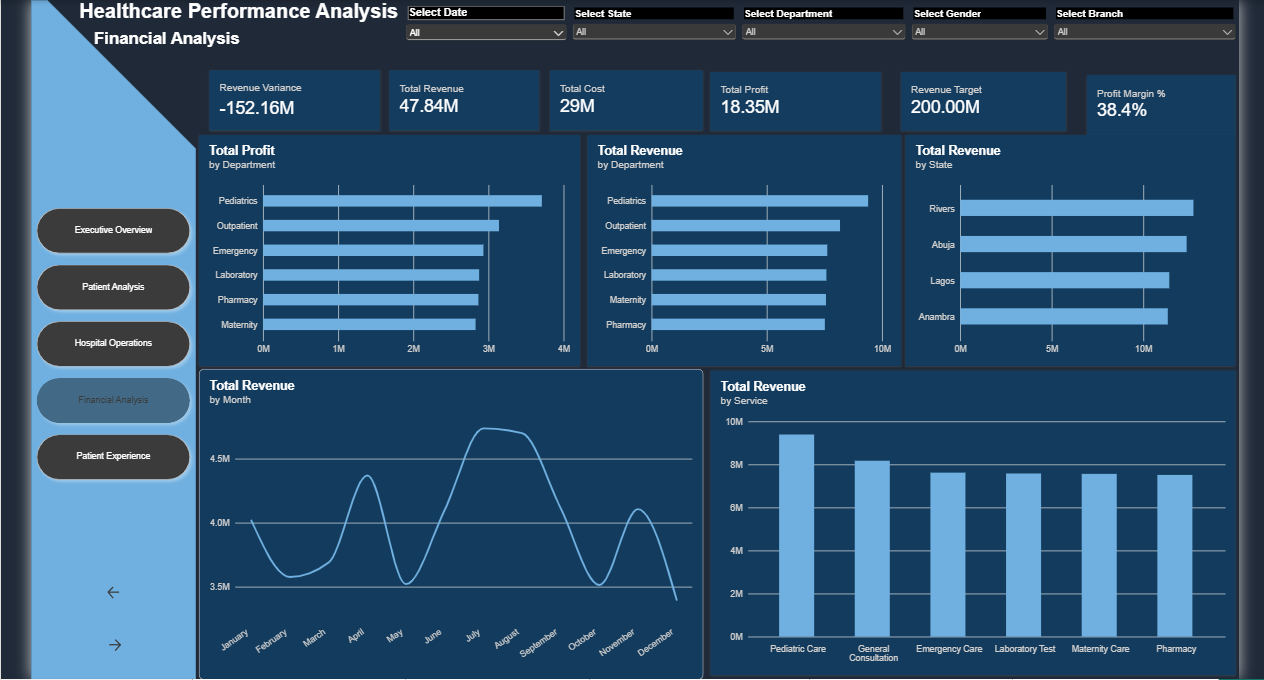

Layout of this report page (visuals, bound fields, positions):
{"tool":"powerbi","page":{"name":"Financial Analysis","canvas":[1920,1080],"ordinal":3},"visuals":[{"type":"textbox","box":[66.8,0,527.3,50.1],"z":0},{"type":"textbox","box":[100.2,45.3,262.5,66.8],"z":1000},{"type":"cardVisual","fields":{"Data":["Date_Table.Total Revenue"]},"box":[570.2,112.1,238.6,95.4],"z":2000},{"type":"cardVisual","fields":{"Data":["Date_Table.Total Cost"]},"box":[825.5,112.1,243.4,95.4],"z":3000},{"type":"cardVisual","fields":{"Data":["Date_Table.Total Profit"]},"box":[1080.8,114.5,272,93.1],"z":4000},{"type":"cardVisual","fields":{"Data":["Date_Table.Profit Margin %"]},"box":[1679.7,119.3,236.2,95.4],"z":5000},{"type":"cardVisual","fields":{"Data":["Date_Table.Revenue Target"]},"box":[1383.8,114.5,262.5,93.1],"z":6000},{"type":"cardVisual","fields":{"Data":["Date_Table.Revenue Variance"]},"box":[283.9,112.1,272,95.4],"z":7000},{"type":"lineChart","fields":{"Category":["Date_Table.Month"],"Y":["Date_Table.Total Revenue"]},"box":[267.2,586.9,801.7,493.9],"z":8000},{"type":"clusteredColumnChart","fields":{"Category":["Patient_Visits.Service"],"Y":["Date_Table.Total Revenue"]},"box":[1080.8,589.3,835.1,484.3],"z":9000},{"type":"clusteredBarChart","fields":{"Category":["Patient_Visits.Department"],"Y":["Date_Table.Total Profit"]},"box":[267.2,214.7,606,367.4],"z":10000},{"type":"clusteredBarChart","fields":{"Category":["Patient_Visits.Department"],"Y":["Date_Table.Total Revenue"]},"box":[885.2,214.7,498.7,367.4],"z":11000},{"type":"clusteredBarChart","fields":{"Category":["Patient_Visits.State"],"Y":["Date_Table.Total Revenue"]},"box":[1391,214.7,524.9,367.4],"z":12000},{"type":"shape","box":[0,0,262.5,1080.8],"z":13000},{"type":"pageNavigator","box":[0,322.1,262.5,453.3],"z":14000},{"type":"slicer","fields":{"Values":["Patient_Visits.State"]},"box":[856.5,11.9,269.6,85.9],"z":15000},{"type":"slicer","fields":{"Values":["Patient_Visits.Department"]},"box":[1126.2,11.9,269.6,52.5],"z":16000},{"type":"slicer","fields":{"Values":["Date_Table.Date"]},"box":[591.7,9.5,264.8,76.3],"z":17000},{"type":"slicer","fields":{"Values":["Patient_Visits.Gender"]},"box":[1395.8,11.9,226.7,76.3],"z":18000},{"type":"slicer","fields":{"Values":["Patient_Visits.Branch"]},"box":[1621.8,11.9,298.2,74],"z":19000},{"type":"actionButton","box":[0,973.5,267.2,105],"z":20000},{"type":"actionButton","box":[0,885.2,262.5,114.5],"z":21000}]}

Visuals, with their boxes on the page's 1920x1080 design canvas (x1, y1, x2, y2). These are canvas units, not pixel positions in the 1264x680 screenshot, which may show the page scaled, cropped or inside an application window:
textbox: (left=67, top=0, right=594, bottom=50)
textbox: (left=100, top=45, right=363, bottom=112)
cardVisual - Date_Table.Total Revenue: (left=570, top=112, right=809, bottom=208)
cardVisual - Date_Table.Total Cost: (left=826, top=112, right=1069, bottom=208)
cardVisual - Date_Table.Total Profit: (left=1081, top=114, right=1353, bottom=208)
cardVisual - Date_Table.Profit Margin %: (left=1680, top=119, right=1916, bottom=215)
cardVisual - Date_Table.Revenue Target: (left=1384, top=114, right=1646, bottom=208)
cardVisual - Date_Table.Revenue Variance: (left=284, top=112, right=556, bottom=208)
lineChart - Date_Table.Month x Date_Table.Total Revenue: (left=267, top=587, right=1069, bottom=1081)
clusteredColumnChart - Patient_Visits.Service x Date_Table.Total Revenue: (left=1081, top=589, right=1916, bottom=1074)
clusteredBarChart - Patient_Visits.Department x Date_Table.Total Profit: (left=267, top=215, right=873, bottom=582)
clusteredBarChart - Patient_Visits.Department x Date_Table.Total Revenue: (left=885, top=215, right=1384, bottom=582)
clusteredBarChart - Patient_Visits.State x Date_Table.Total Revenue: (left=1391, top=215, right=1916, bottom=582)
shape: (left=0, top=0, right=262, bottom=1081)
pageNavigator: (left=0, top=322, right=262, bottom=775)
slicer - Patient_Visits.State: (left=856, top=12, right=1126, bottom=98)
slicer - Patient_Visits.Department: (left=1126, top=12, right=1396, bottom=64)
slicer - Date_Table.Date: (left=592, top=10, right=856, bottom=86)
slicer - Patient_Visits.Gender: (left=1396, top=12, right=1622, bottom=88)
slicer - Patient_Visits.Branch: (left=1622, top=12, right=1920, bottom=86)
actionButton: (left=0, top=974, right=267, bottom=1078)
actionButton: (left=0, top=885, right=262, bottom=1000)
